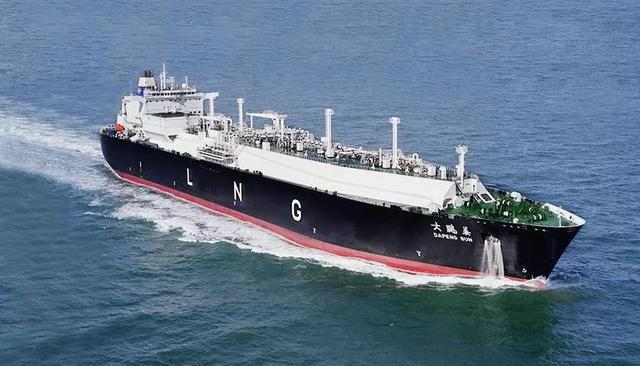Cargoship: (95, 64, 589, 287)
